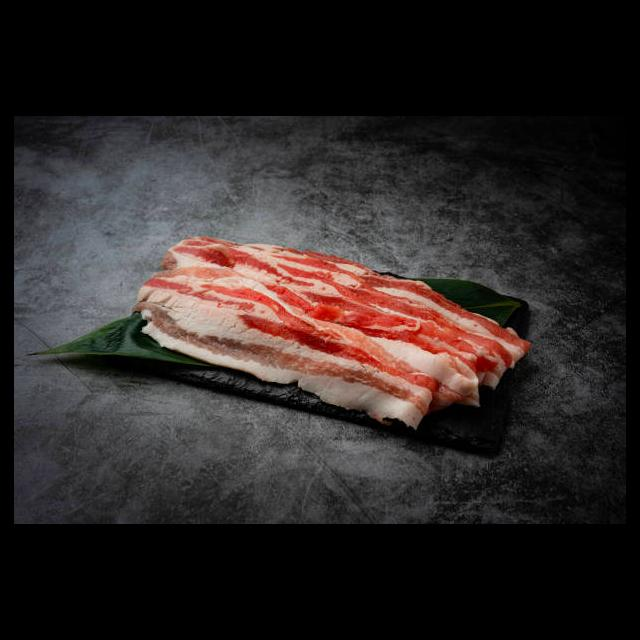pork: (138, 229, 514, 421)
